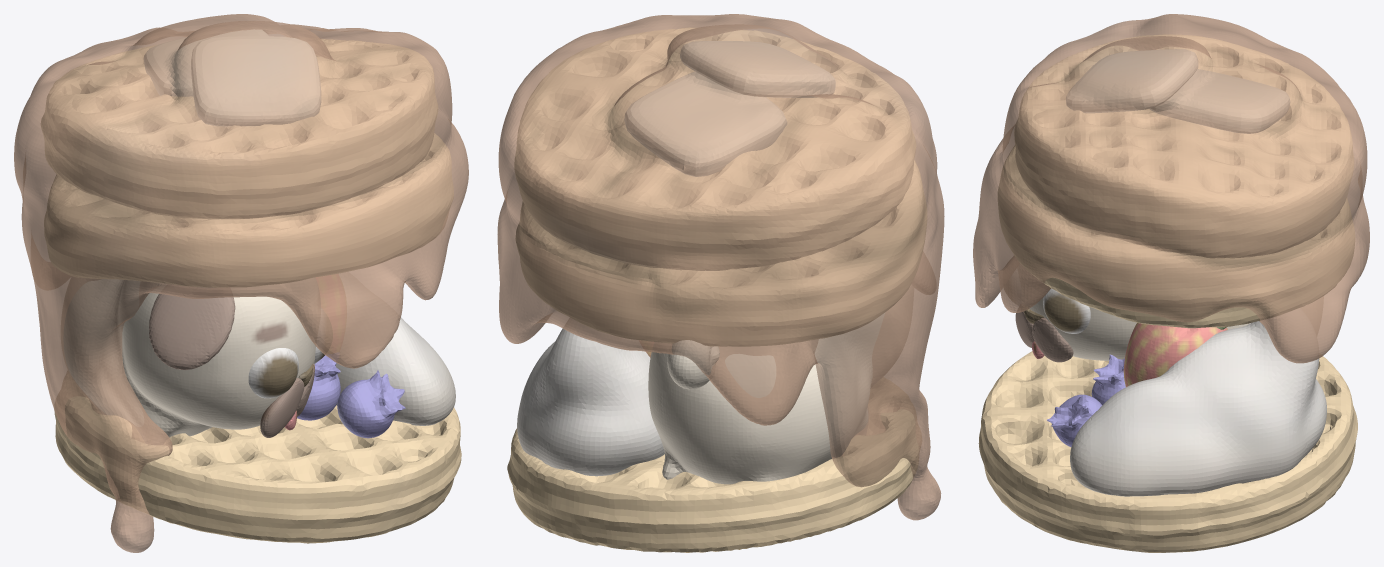
Rendered from cutePug.52dfe84a.glb.
3 renders of one model, left to right at view 1: azimuth 30°, elevation 25°; view 2: azimuth 150°, elevation 25°; view 3: azimuth 270°, elevation 25°, orthographic. The views are drawn at different scales.
Visible parts, largest first — view 1: Mesh_8, Mesh_9, Mesh_3, Mesh_10, Mesh_17, Mesh_13, Mesh_2, Mesh_6, Mesh_1, Mesh_12, Mesh_5, Mesh_0 (+1 smaller); view 2: Mesh_8, Mesh_9, Mesh_10, Mesh_3, Mesh_17, Mesh_2, Mesh_12, Mesh_13, Mesh_6; view 3: Mesh_8, Mesh_9, Mesh_3, Mesh_2, Mesh_10, Mesh_13, Mesh_12, Mesh_15, Mesh_17, Mesh_1, Mesh_5, Mesh_4 (+1 smaller).
Part boxes in pixels (x1,y1,x2,y2): Mesh_8: (14,14,468,552); Mesh_9: (41,39,437,218); Mesh_3: (54,396,461,543); Mesh_10: (44,133,453,287); Mesh_17: (63,279,315,437); Mesh_13: (191,36,320,126); Mesh_2: (335,317,455,425); Mesh_6: (149,287,313,386); Mesh_1: (337,370,405,438); Mesh_12: (144,29,267,96); Mesh_5: (248,346,324,398); Mesh_0: (297,355,340,420); Mesh_8: (497,14,944,520); Mesh_9: (514,27,915,270); Mesh_10: (515,160,926,346); Mesh_3: (507,409,919,552); Mesh_17: (648,312,885,484); Mesh_2: (517,328,664,476); Mesh_12: (624,72,786,176); Mesh_13: (680,41,835,97); Mesh_6: (667,340,719,389); Mesh_8: (973,14,1369,363); Mesh_9: (1014,34,1353,257); Mesh_3: (978,351,1357,552); Mesh_2: (1070,321,1326,496); Mesh_10: (998,146,1354,328); Mesh_13: (1066,49,1197,113); Mesh_12: (1150,69,1289,133); Mesh_15: (1123,323,1227,386); Mesh_17: (1029,288,1250,360); Mesh_1: (1047,394,1102,446); Mesh_5: (1043,289,1090,333); Mesh_4: (1032,317,1073,362).
Size of the model in its own units: 2.47 by 2.7 by 2.29.
